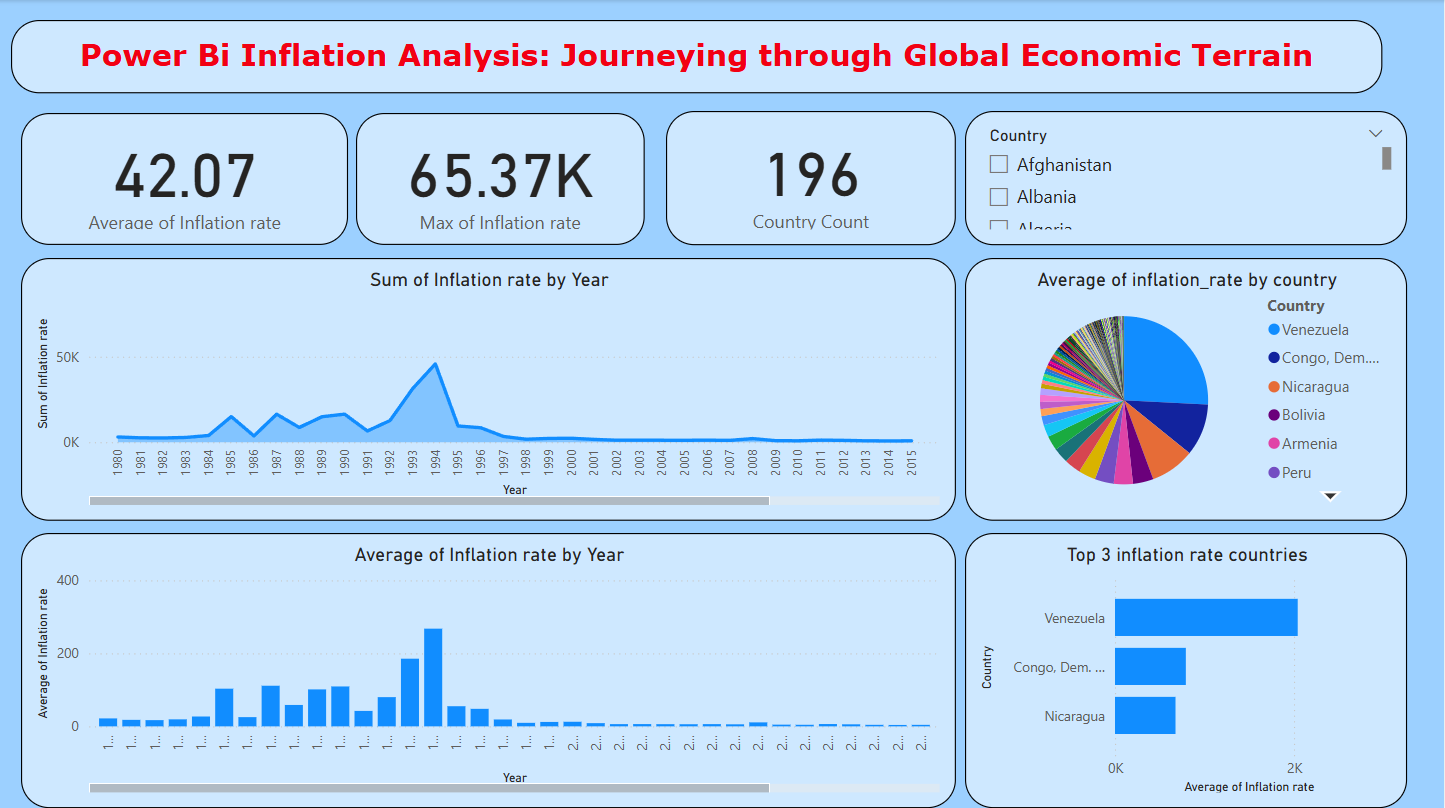

The dashboard page shown, as its layout file describes it:
{"tool":"powerbi","page":{"name":"Page 1","canvas":[1280,720],"ordinal":0},"visuals":[{"type":"textbox","box":[9.5,17.5,1215.9,65.1],"z":0},{"type":"card","fields":{"Values":["Avg(inflation rate.inflation_rate)"]},"box":[19,100,290.5,117.5],"z":1000},{"type":"card","fields":{"Values":["Max(inflation rate.inflation_rate)"]},"box":[315.9,100,255.6,117.5],"z":2000},{"type":"card","fields":{"Values":["Count(inflation rate.country_name)"]},"box":[590.5,98.4,257.1,119],"z":3000},{"type":"slicer","fields":{"Values":["inflation rate.country_name"]},"box":[855.6,98.4,392.1,119],"z":4000},{"type":"lineChart","fields":{"Category":["inflation rate.Year"],"Y":["Sum(inflation rate.inflation_rate)"]},"box":[19,228.6,828.6,233.3],"z":5000},{"type":"pieChart","title":"Average of inflation_rate by country","fields":{"Y":["Avg(inflation rate.inflation_rate)"],"Category":["inflation rate.country_name"]},"box":[855.6,228.6,392.1,233.3],"z":6000},{"type":"clusteredColumnChart","fields":{"Category":["inflation rate.Year"],"Y":["Avg(inflation rate.inflation_rate)"]},"box":[19,473,828.6,244.4],"z":7000},{"type":"clusteredBarChart","title":"Top 3 inflation rate countries","fields":{"Category":["inflation rate.country_name"],"Y":["Avg(inflation rate.inflation_rate)"]},"box":[855.6,473,392.1,244.4],"z":8000}]}

Visuals, with their boxes in screenshot pixels (x1, y1, x2, y2), scaled from the page's 1280x720 canvas onto the 1445x808 screenshot:
textbox: (11, 20, 1383, 93)
card - Avg(inflation rate.inflation_rate): (21, 112, 349, 244)
card - Max(inflation rate.inflation_rate): (357, 112, 645, 244)
card - Count(inflation rate.country_name): (667, 110, 957, 244)
slicer - inflation rate.country_name: (966, 110, 1409, 244)
lineChart - inflation rate.Year x Sum(inflation rate.inflation_rate): (21, 257, 957, 518)
"Average of inflation_rate by country" pieChart: (966, 257, 1409, 518)
clusteredColumnChart - inflation rate.Year x Avg(inflation rate.inflation_rate): (21, 531, 957, 805)
"Top 3 inflation rate countries" clusteredBarChart: (966, 531, 1409, 805)
